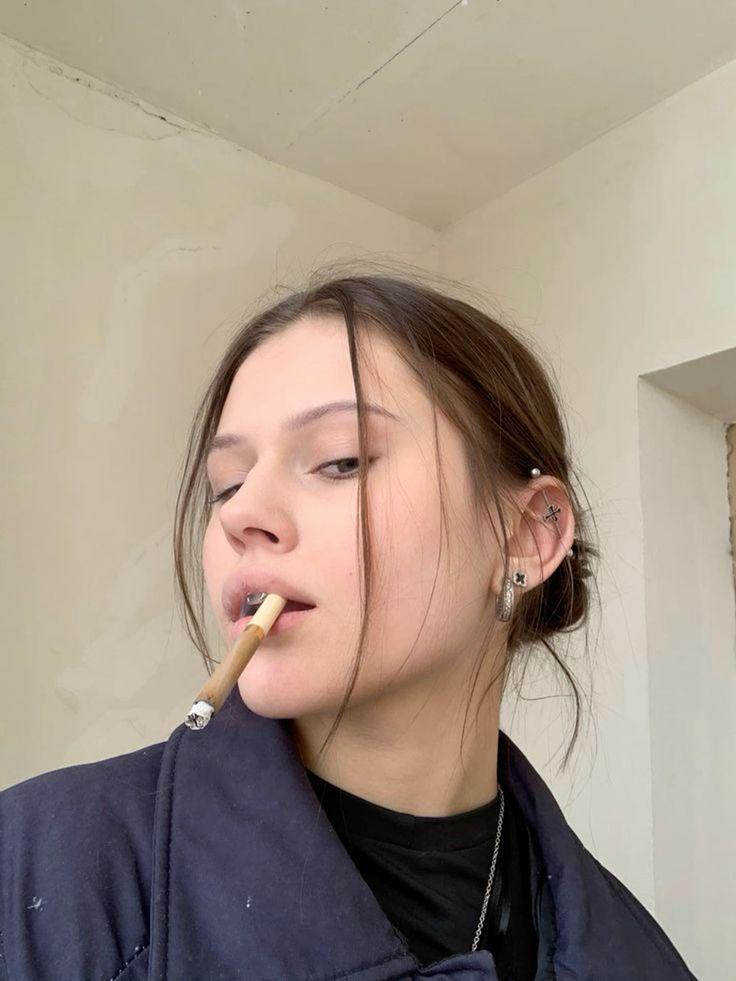cigarette: (185, 592, 288, 730)
